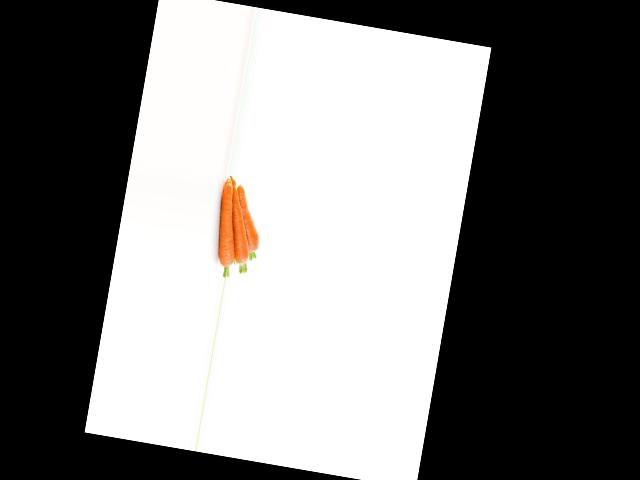carrot: (210, 178, 245, 272)
